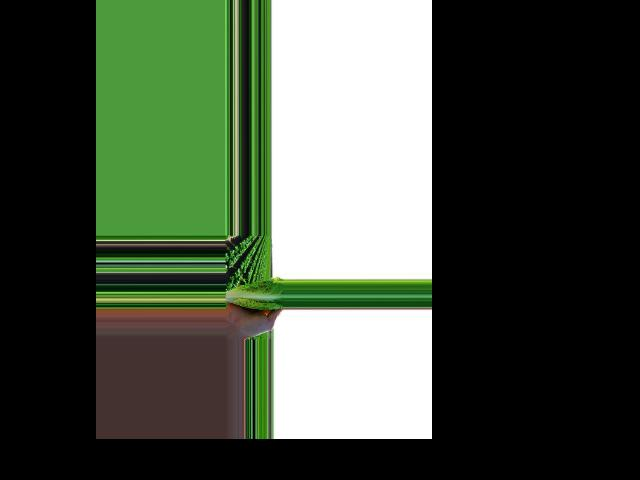lettuce: (224, 278, 282, 309)
